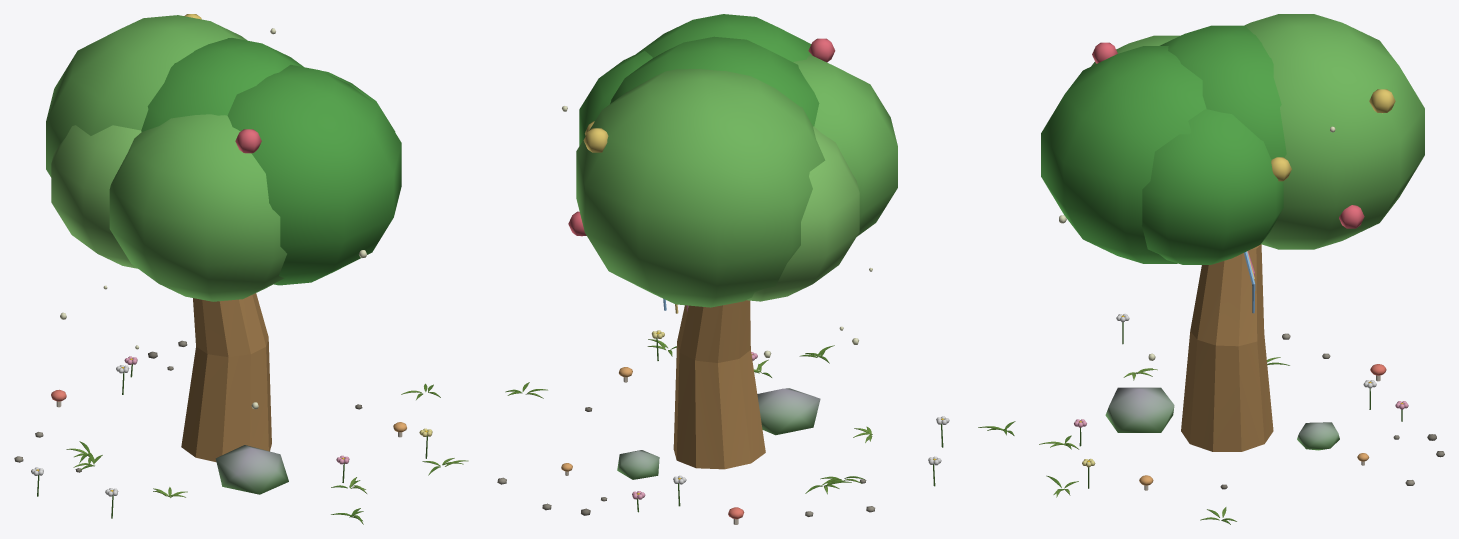
Rendered from gym_deco_forest_lite.glb.
3 renders of one model, left to right at view 1: azimuth 30°, elevation 25°; view 2: azimuth 150°, elevation 25°; view 3: azimuth 270°, elevation 25°, orthographic.
Parts seen in each view (by area): view 1: t; view 2: t; view 3: t.
Boxes of the visible parts, x1,y1,x2,y2 form: t: [14, 14, 468, 524]; t: [497, 14, 949, 524]; t: [978, 14, 1444, 524].
Bounding box in the file's own units: 7.21 × 6.75 × 7.06.
